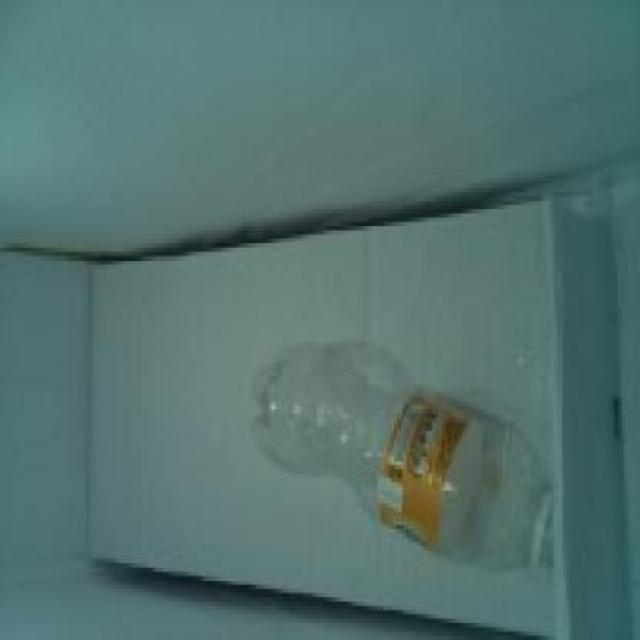Pet_Bottle: (252, 336, 566, 578)
